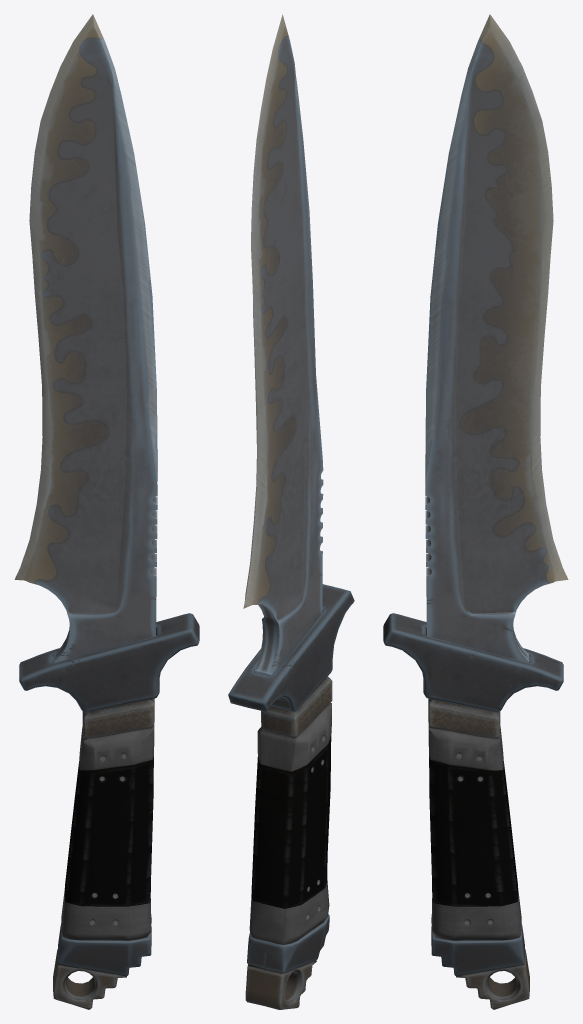
File: wm_knife.fbx
The picture shows the model from 3 angles, left to right: view 1: azimuth 90°, elevation 25°; view 2: azimuth 150°, elevation 25°; view 3: azimuth 270°, elevation 25°; orthographic projection.
Parts seen in each view (by area): view 1: Knife_LOD0; view 2: Knife_LOD0; view 3: Knife_LOD0.
Part boxes in pixels (left/top/right/bottom): Knife_LOD0: left=14, top=14, right=199, bottom=1009; Knife_LOD0: left=228, top=14, right=354, bottom=1009; Knife_LOD0: left=383, top=14, right=568, bottom=1009.
Size of what is drawn, in the model's own units: 15.14 by 275 by 46.64.
